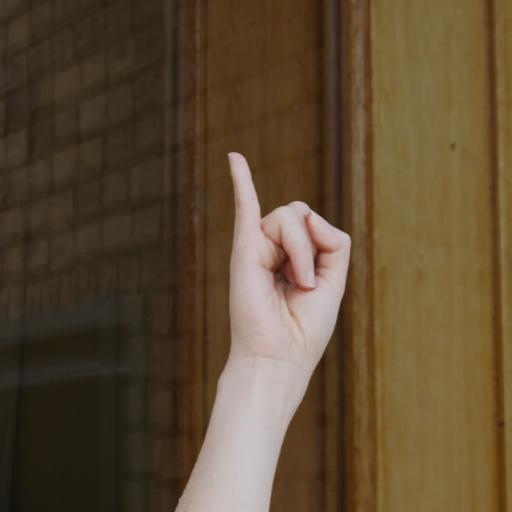I: (200, 144, 361, 397)
